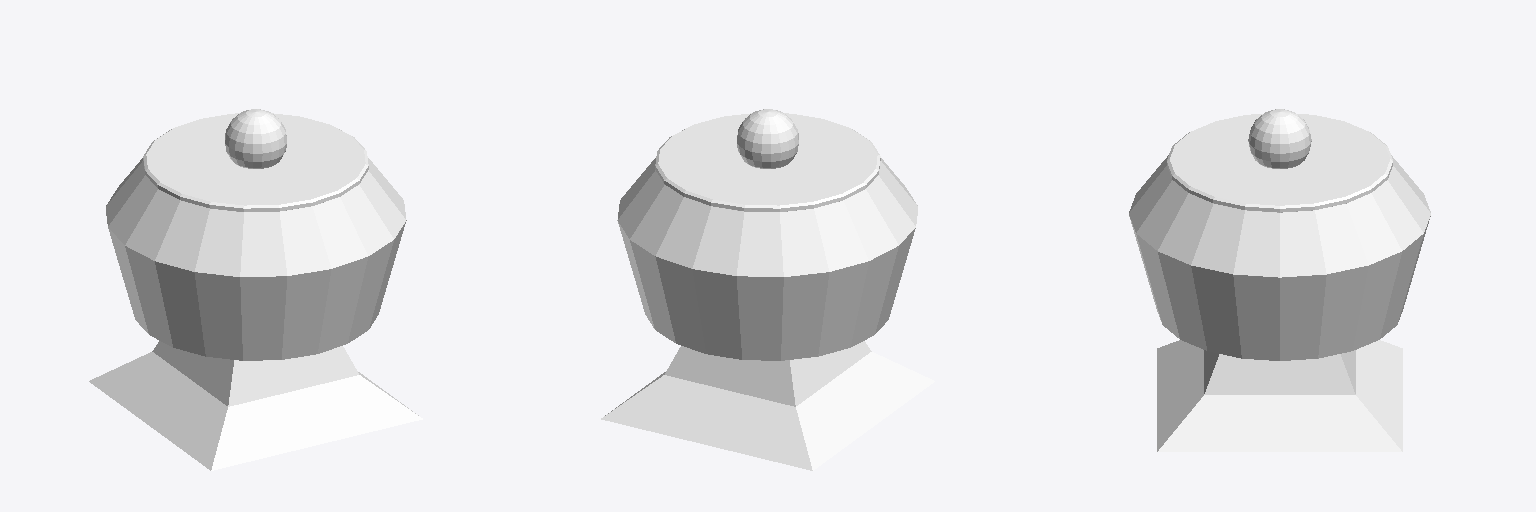
File: smallLamp.obj
The picture shows the model from 3 angles: view 1: azimuth 30°, elevation 25°; view 2: azimuth 150°, elevation 25°; view 3: azimuth 270°, elevation 25°; orthographic projection.
Visible parts, largest first — view 1: pCube2; view 2: pCube2; view 3: pCube2.
Part boxes in pixels (x1,y1,x2,y2): pCube2: (89, 109, 422, 470); pCube2: (601, 109, 934, 470); pCube2: (1129, 109, 1430, 451).
Size of the model in its own units: 4.34 by 4.56 by 4.34.